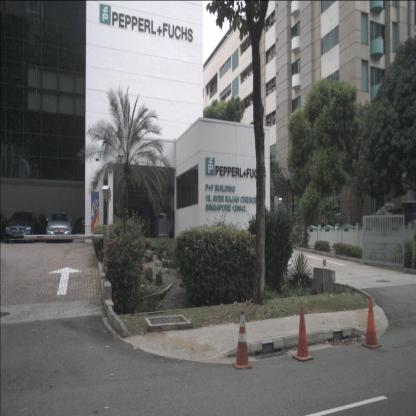cone: (232, 311, 252, 370), (361, 296, 382, 350), (293, 306, 313, 362)
